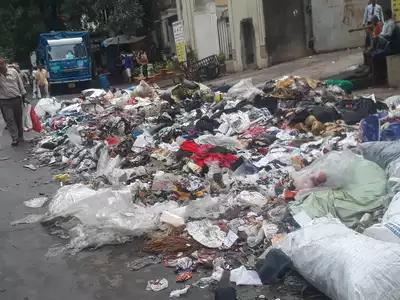garbage: (45, 75, 400, 300)
